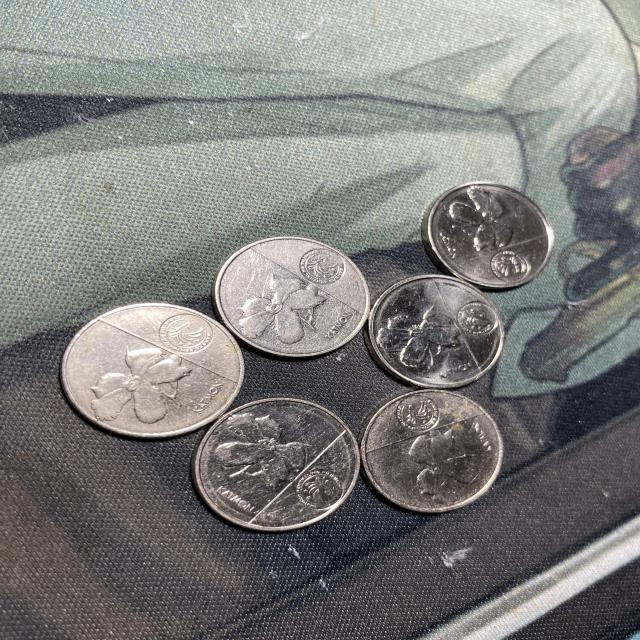25Cent_New_Back: (65, 306, 246, 438), (201, 398, 358, 526), (222, 236, 367, 354), (361, 393, 505, 509), (372, 275, 502, 383), (427, 183, 545, 280)
